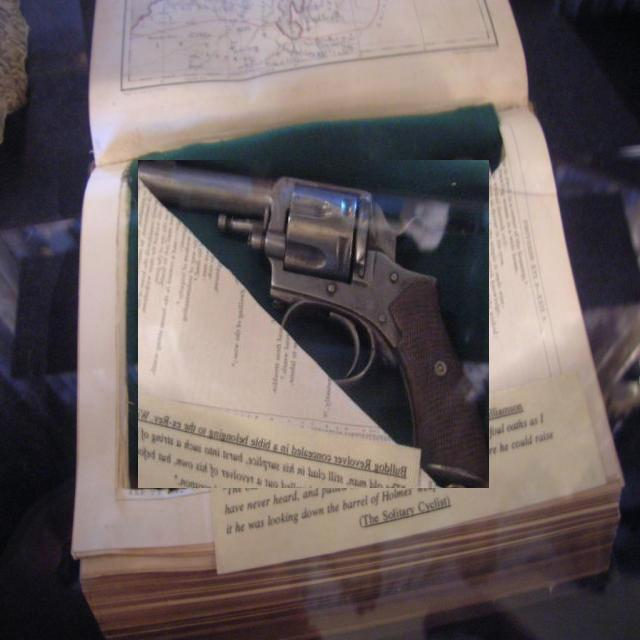Gun: (139, 160, 489, 488)
